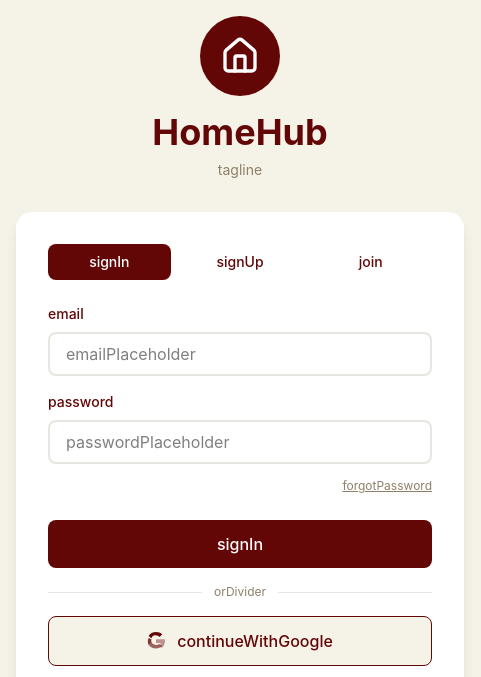
Sign In edge cases › [6] wrong password → error message shown
The width and height of the screenshot is (481, 677).
Type "test@email.com" into the field with placeholder "emailPlaceholder" at (240, 354), box top-left (48, 332), bottom-right (432, 376)
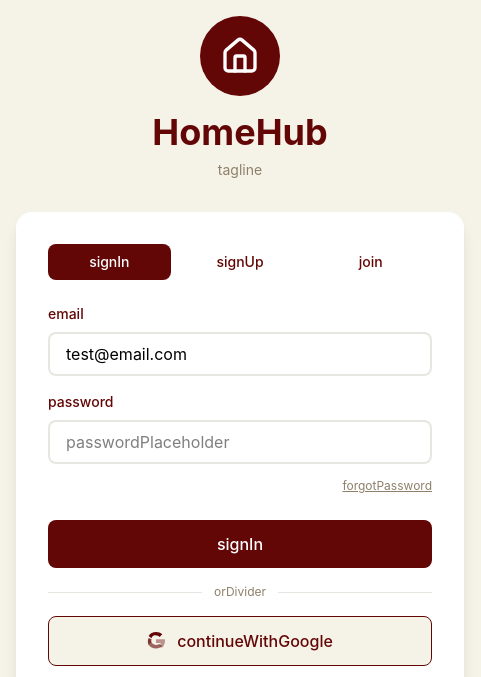
Type "wrongpassword" into the password field with placeholder "passwordPlaceholder" at (240, 442), box top-left (48, 420), bottom-right (432, 464)
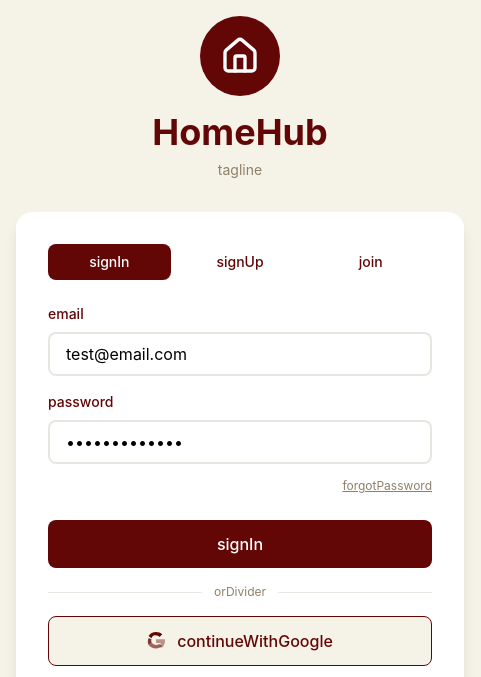
Click the button "signIn" below "email" at (240, 544), box top-left (48, 520), bottom-right (432, 568)
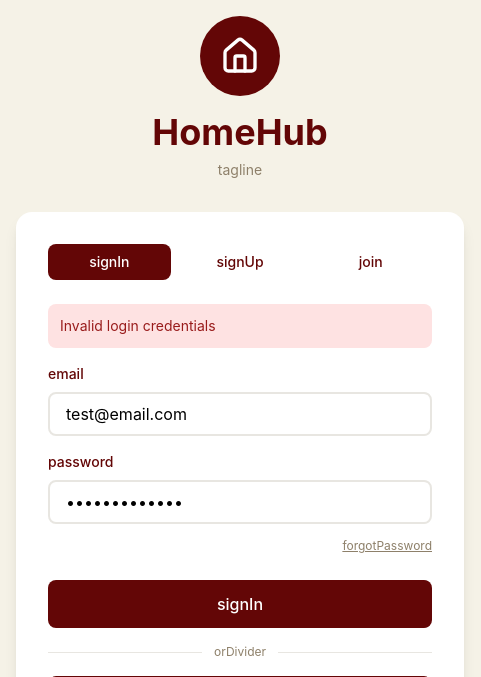
Expected: the text "Invalid login credentials" is shown, top-left (48, 304), bottom-right (432, 348)
